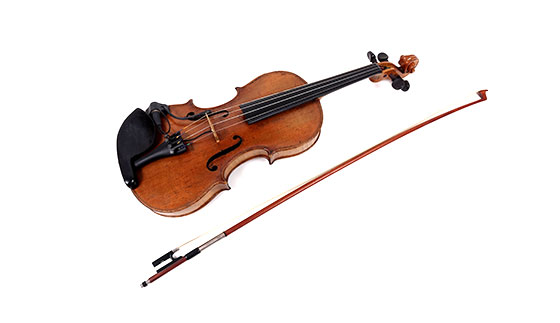Fiddle: (108, 37, 435, 241)
